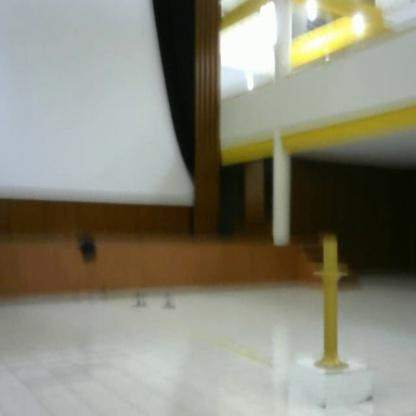pole: (307, 235, 357, 378)
